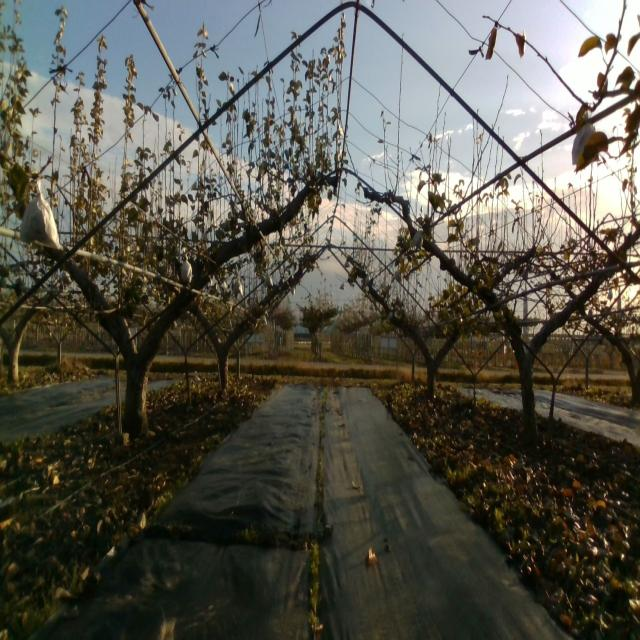pearbags: (18, 179, 62, 249), (572, 110, 599, 168), (180, 252, 192, 282), (410, 231, 424, 252), (232, 278, 243, 300)
